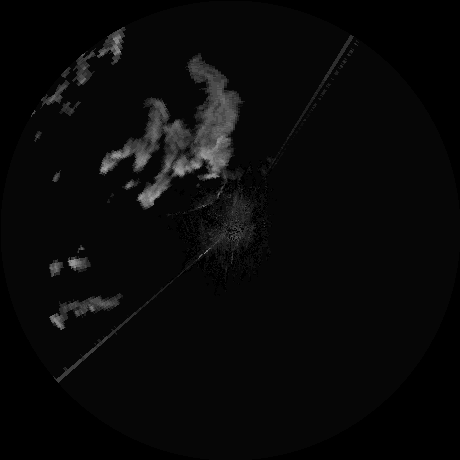frontgust: (193, 174, 223, 214)
